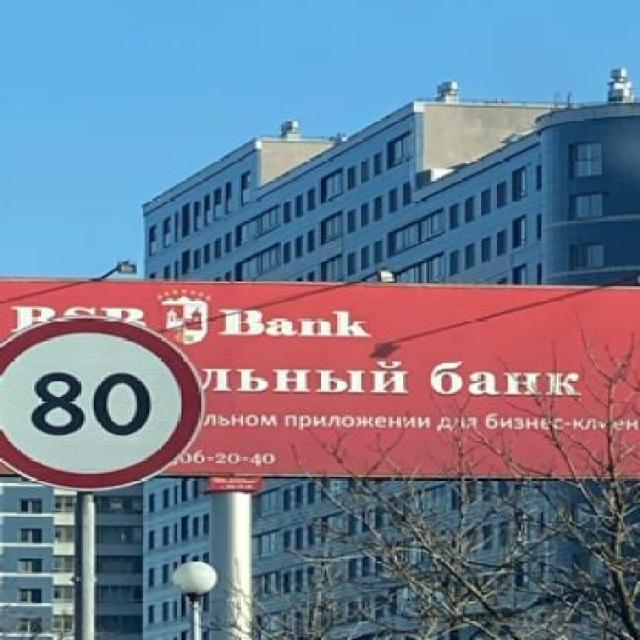forb_speed_over_80: (0, 318, 198, 492)
